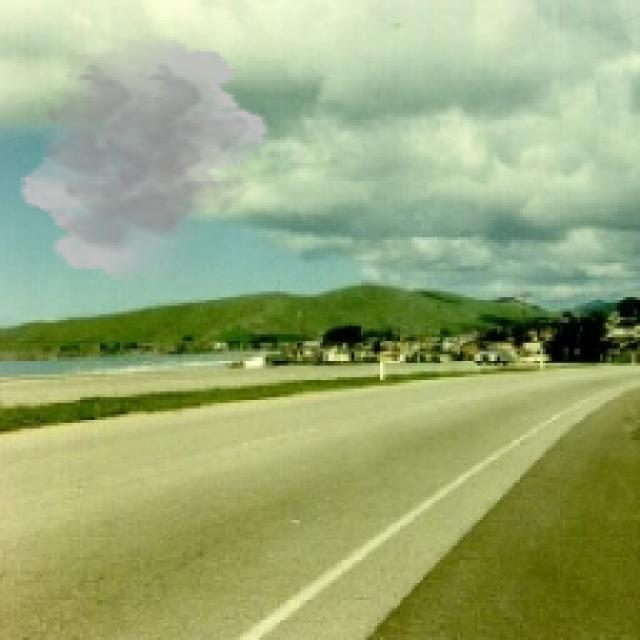Smoke: (17, 34, 272, 286)
